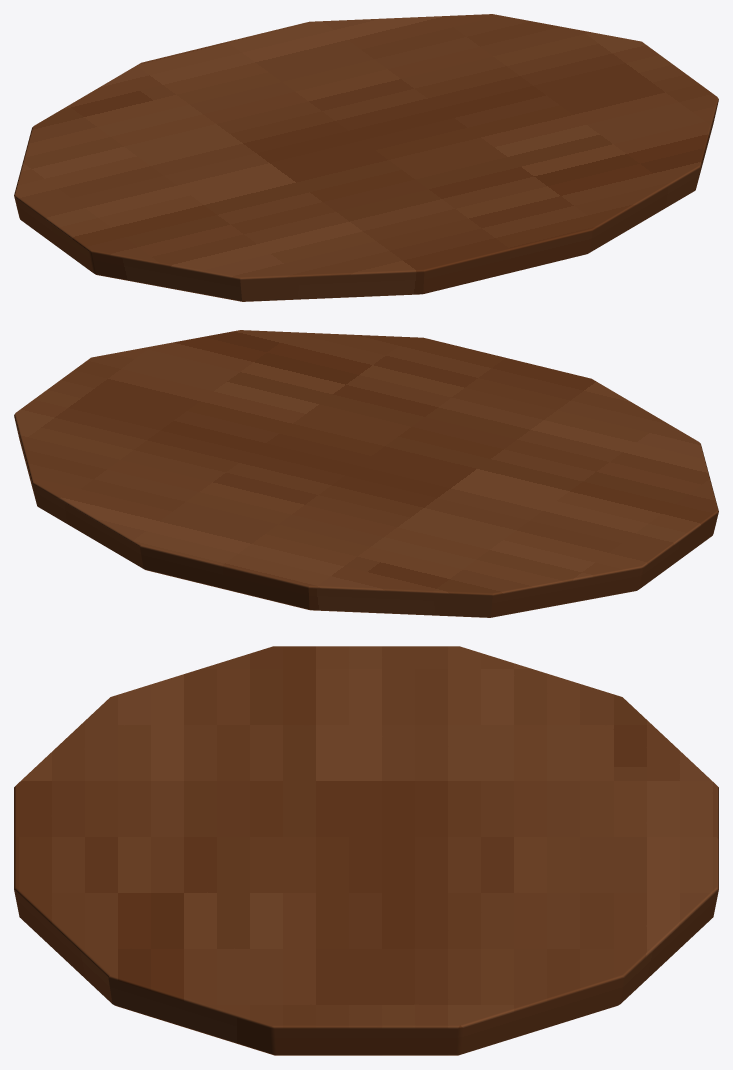
The picture shows the model from 3 angles, top to bottom: view 1: azimuth 30°, elevation 25°; view 2: azimuth 150°, elevation 25°; view 3: azimuth 270°, elevation 25°; orthographic projection. The views are drawn at different scales.
Parts seen in each view (by area): view 1: Base; view 2: Base; view 3: Base.
Boxes of the visible parts, x1,y1,x2,y2 form: Base: (14,14,718,301); Base: (14,330,718,617); Base: (14,646,718,1055).
Size of the model in its own units: 0.5325 by 0.022 by 0.4167.
1 material, 1 textured.
